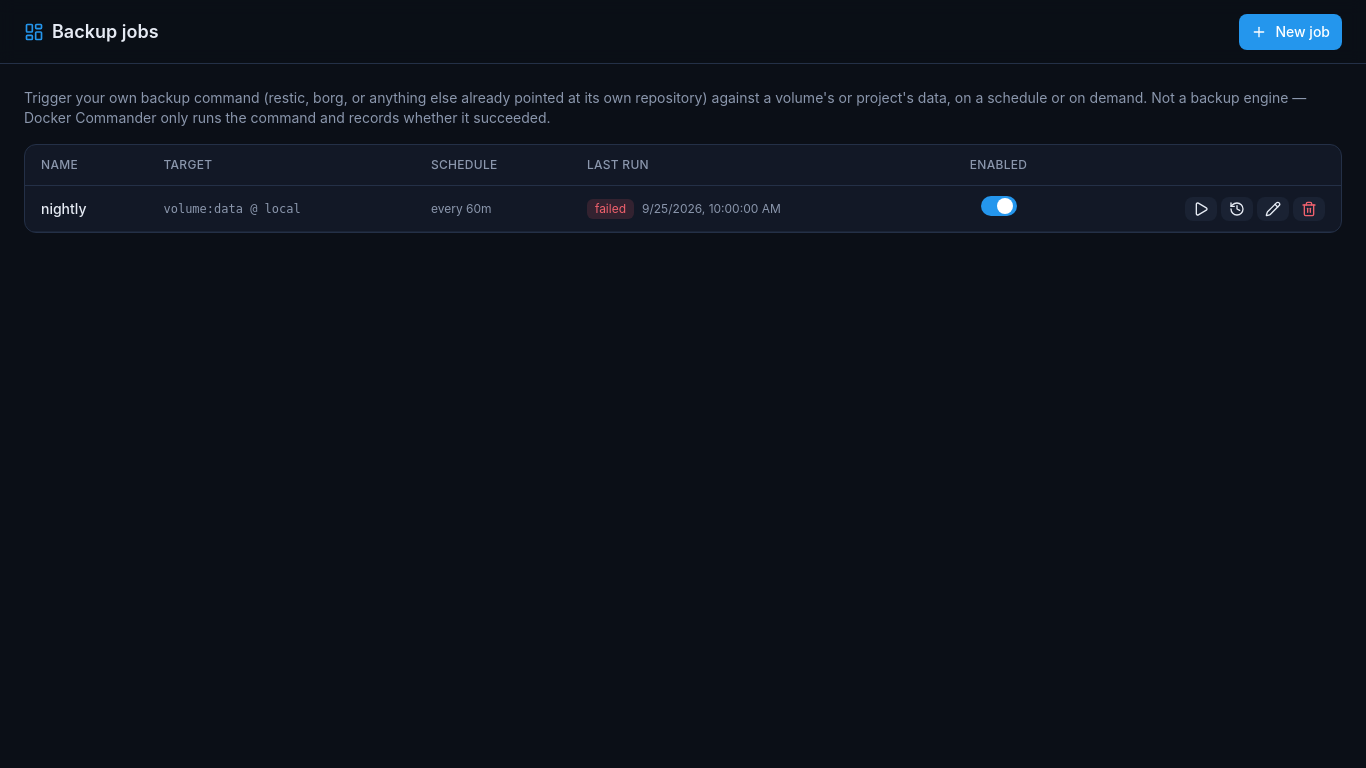
Test case: BackupJobs — run history and logs › the failed badge opens the same history
Click the button "failed": (610, 208) [587,198,634,218]
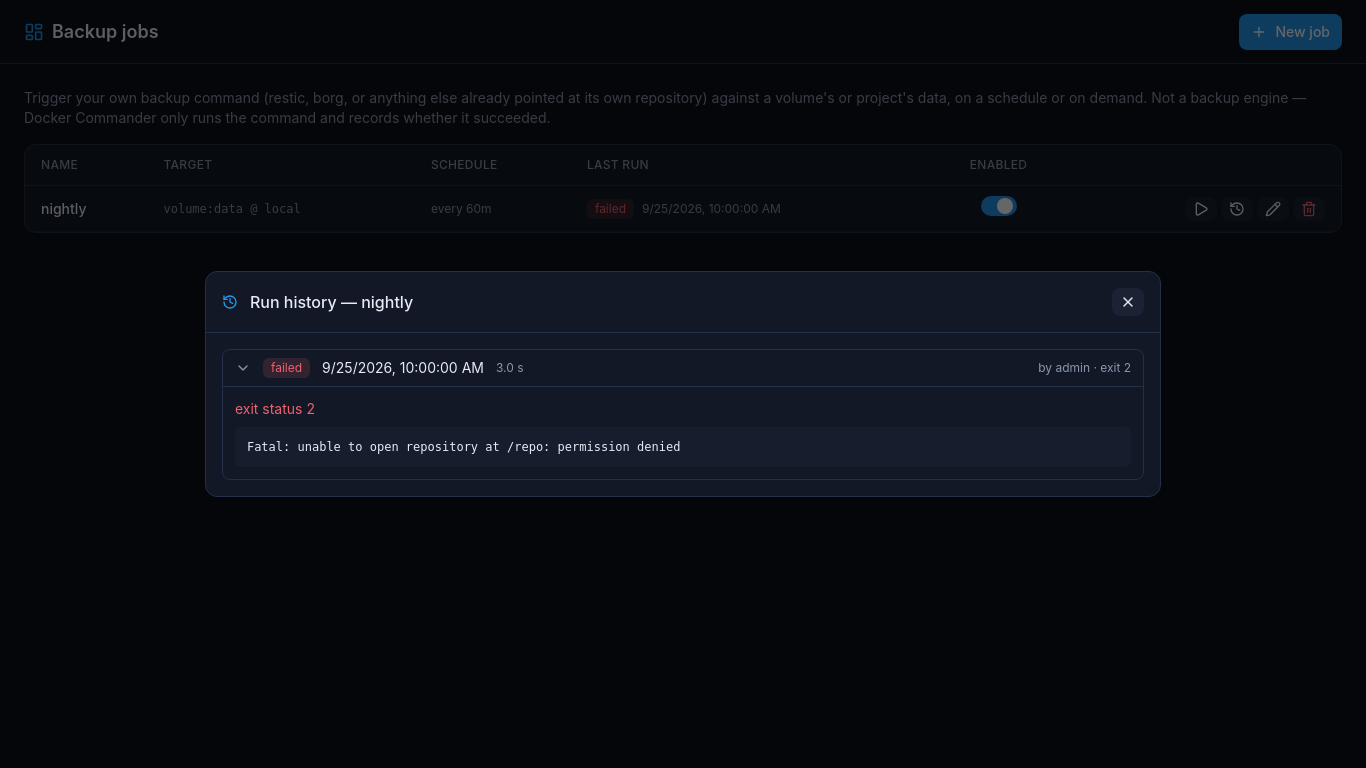
Check: the text "permission denied" is shown, box [247,440,680,454]
